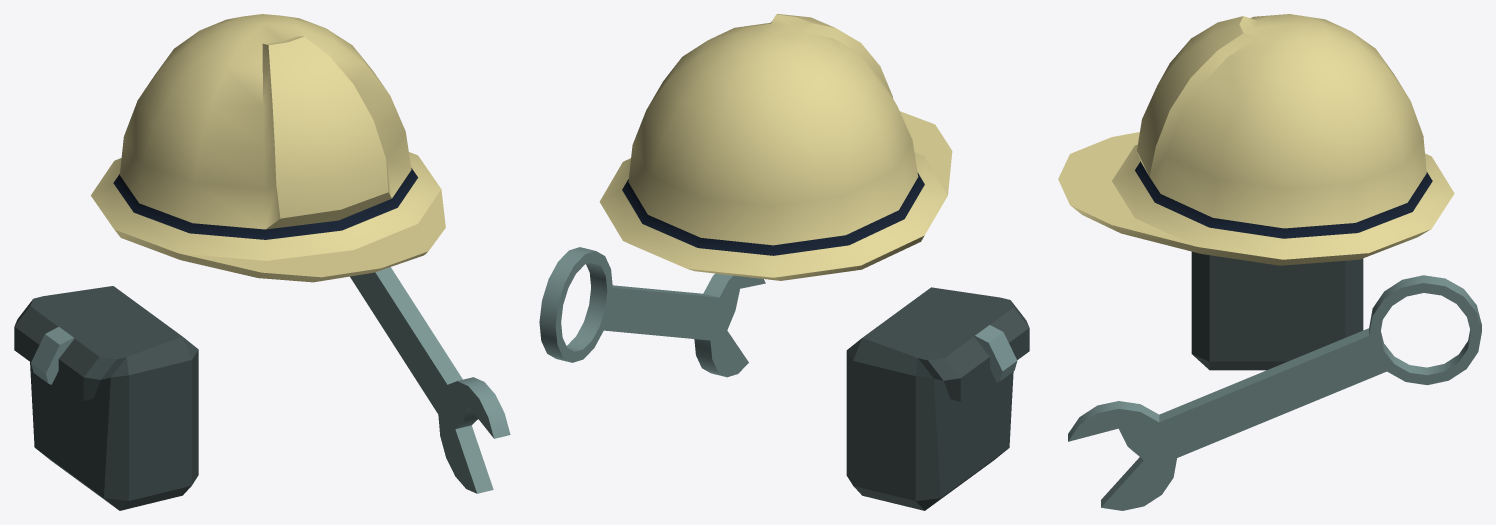
Rendered from DrkDroneDisplay.fbx.
The picture shows the model from 3 angles, left to right: view 1: azimuth 30°, elevation 25°; view 2: azimuth 150°, elevation 25°; view 3: azimuth 270°, elevation 25°; orthographic projection. The views are drawn at different scales.
Visible parts, largest first — view 1: MeshDRKDroneDisplay; view 2: MeshDRKDroneDisplay; view 3: MeshDRKDroneDisplay.
Part boxes in pixels (box(x1,y1,x2,y2)): MeshDRKDroneDisplay: box(14, 14, 510, 510); MeshDRKDroneDisplay: box(539, 14, 1029, 510); MeshDRKDroneDisplay: box(1058, 14, 1481, 510).
Size of the model in its own units: 304 by 327 by 297.
